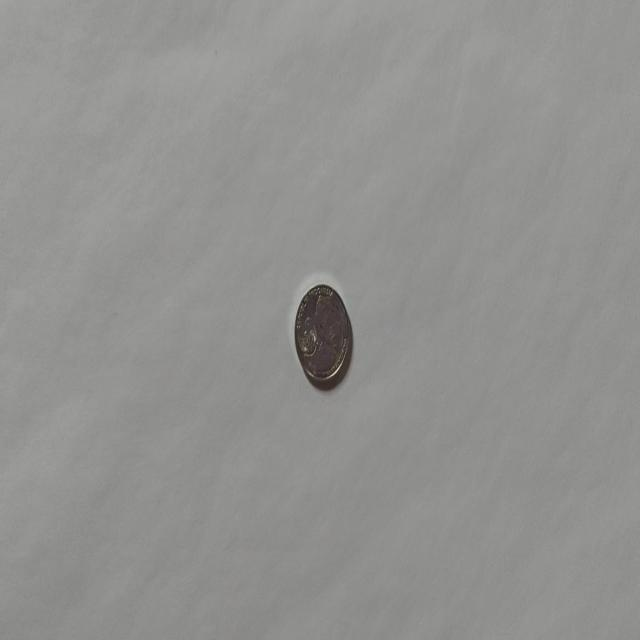dua ratus rupiah: (294, 281, 352, 386)
